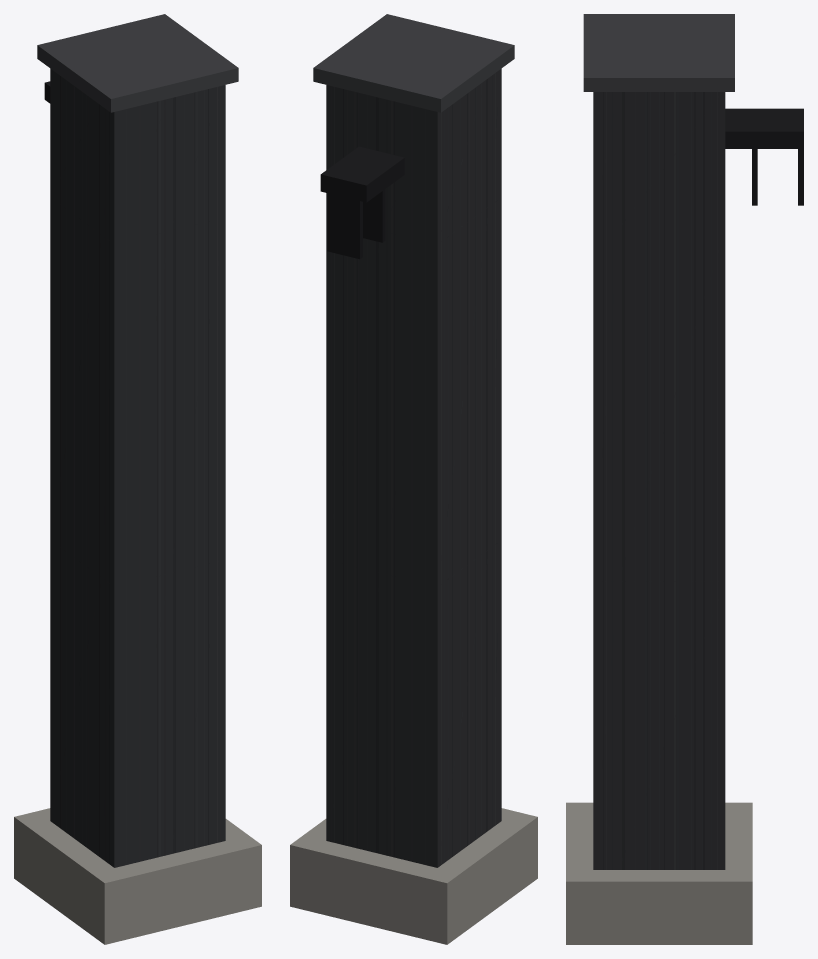
Rendered from MinidoracatKnoxPass_slidepost1_C.glb.
The picture shows the model from 3 angles, left to right: view 1: azimuth 30°, elevation 25°; view 2: azimuth 150°, elevation 25°; view 3: azimuth 270°, elevation 25°; orthographic projection. The views are drawn at different scales.
Parts seen in each view (by area): view 1: MinidoracatKnoxPass_slidepost1_C; view 2: MinidoracatKnoxPass_slidepost1_C; view 3: MinidoracatKnoxPass_slidepost1_C.
Part boxes in pixels (<box>): MinidoracatKnoxPass_slidepost1_C: <box>14,14,261,944</box>; MinidoracatKnoxPass_slidepost1_C: <box>290,14,537,944</box>; MinidoracatKnoxPass_slidepost1_C: <box>566,14,803,944</box>.
Size of the model in its own units: 0.48 by 2.44 by 0.612.
1 material, 1 textured.
